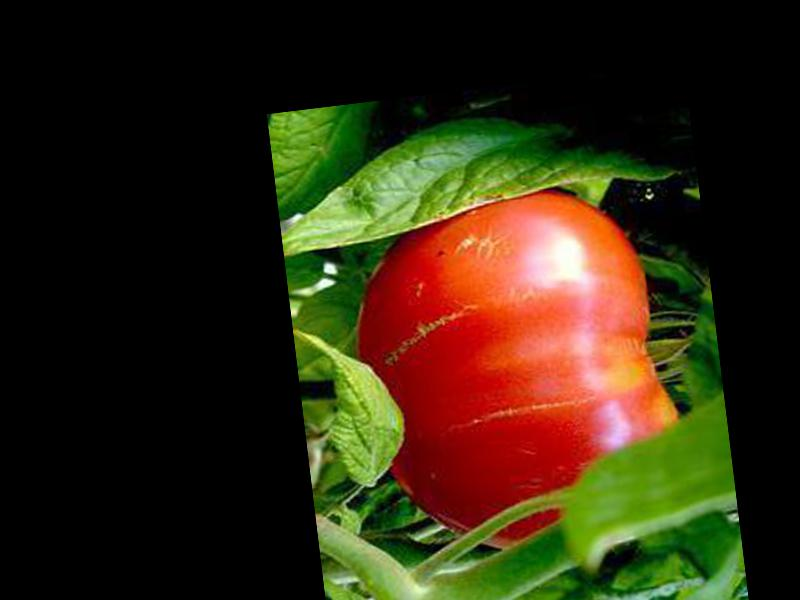Tomato: (342, 174, 693, 562)
